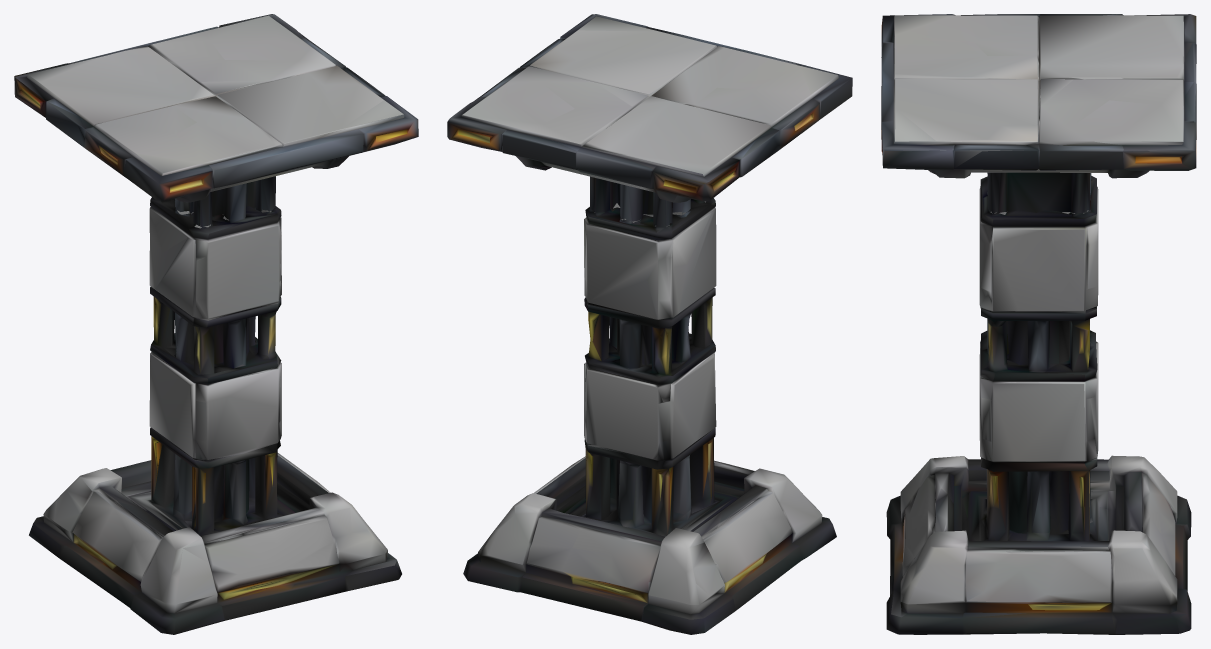
File: model-33-telescopic-lift.glb
3 renders of one model, left to right at view 1: azimuth 30°, elevation 25°; view 2: azimuth 150°, elevation 25°; view 3: azimuth 270°, elevation 25°, orthographic. The views are drawn at different scales.
Visible parts, largest first — view 1: Frame, Moving; view 2: Frame, Moving; view 3: Frame, Moving.
Part boxes in pixels (x1,y1,x2,y2): Frame: [29, 197, 401, 634]; Moving: [14, 14, 418, 227]; Frame: [463, 198, 836, 634]; Moving: [447, 14, 852, 227]; Frame: [886, 176, 1191, 634]; Moving: [881, 14, 1196, 213].
Size of the model in its own units: 0.5567 by 0.9385 by 0.5425.
